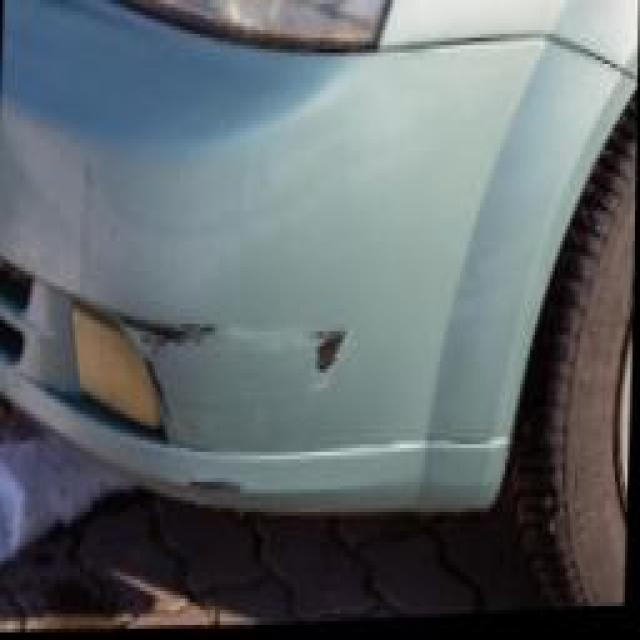Bumper: (110, 279, 363, 515)
